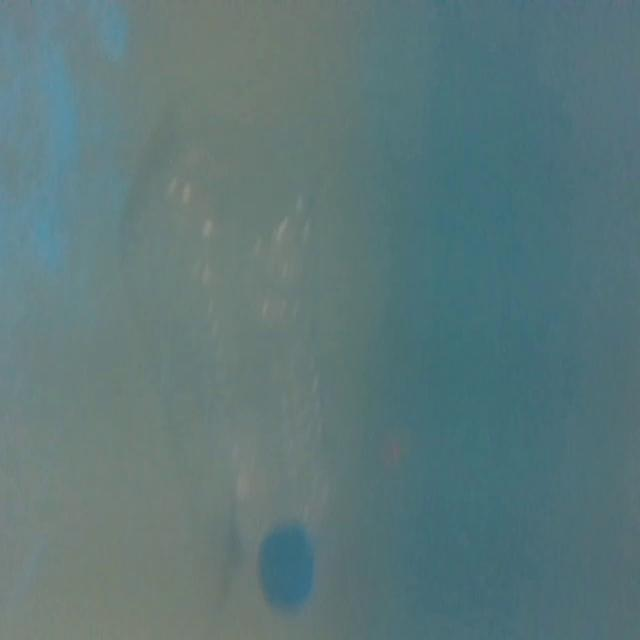plastic bottle: (144, 134, 344, 615)
